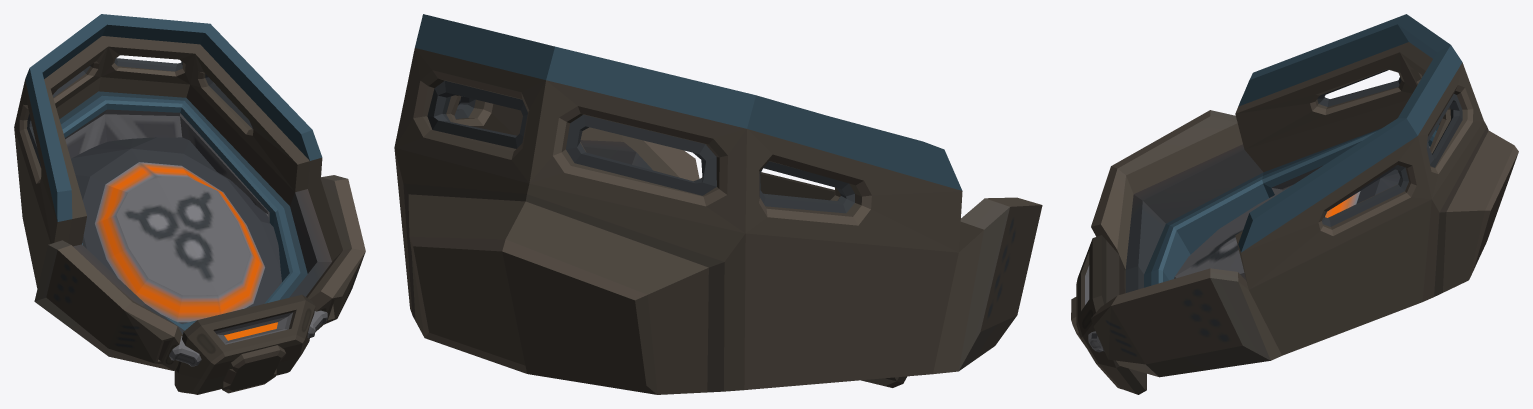
Rendered from SM_Mech_Neck_01_Armor_Collar_03.fbx.
3 renders of one model, left to right at view 1: azimuth 30°, elevation 25°; view 2: azimuth 150°, elevation 25°; view 3: azimuth 270°, elevation 25°, orthographic. The views are drawn at different scales.
Visible parts, largest first — view 1: SM_Mech_Neck_01_Armor_Collar_03; view 2: SM_Mech_Neck_01_Armor_Collar_03; view 3: SM_Mech_Neck_01_Armor_Collar_03.
Boxes of the visible parts, x1,y1,x2,y2 form: SM_Mech_Neck_01_Armor_Collar_03: (14, 14, 365, 394); SM_Mech_Neck_01_Armor_Collar_03: (394, 14, 1042, 394); SM_Mech_Neck_01_Armor_Collar_03: (1071, 14, 1518, 394).
Bounding box in the file's own units: 119 × 106 × 135.
